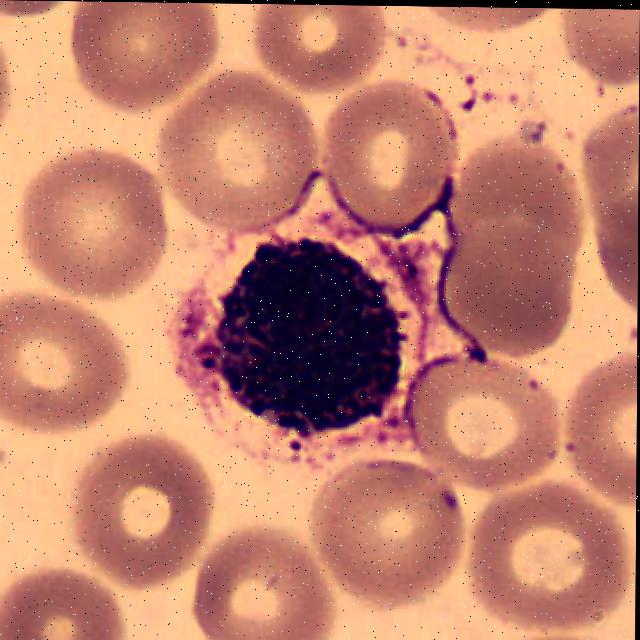basophil: (196, 234, 420, 438)
rbc: (455, 122, 583, 366), (151, 76, 319, 239), (308, 450, 470, 607), (466, 483, 628, 630), (315, 82, 465, 232), (408, 345, 566, 487), (61, 432, 208, 582), (21, 148, 172, 292), (179, 507, 339, 640), (0, 286, 139, 437), (66, 1, 217, 100), (250, 4, 394, 86), (574, 328, 638, 497), (592, 99, 639, 291), (563, 8, 640, 89), (601, 182, 639, 290), (435, 6, 552, 40)
